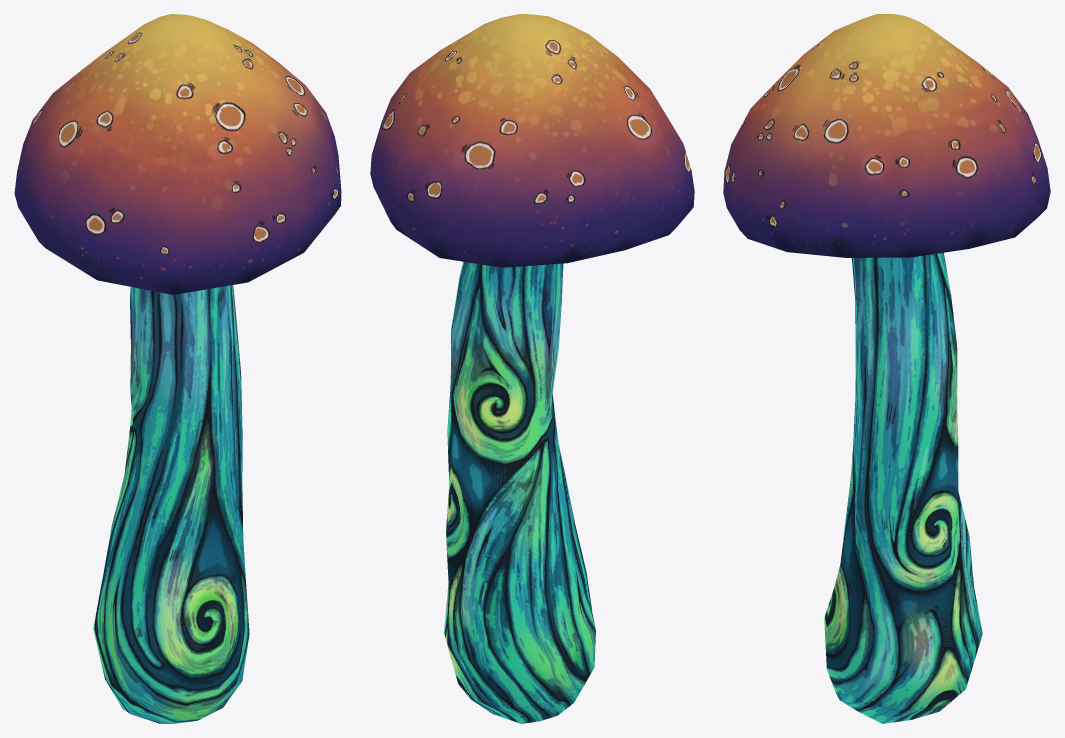
Rendered from stylized_mushroom_1.1.glb.
The picture shows the model from 3 angles, left to right: view 1: azimuth 30°, elevation 25°; view 2: azimuth 150°, elevation 25°; view 3: azimuth 270°, elevation 25°; orthographic projection.
Parts seen in each view (by area): view 1: grzyb6_LP_UVW_Default OBJ.024_0; view 2: grzyb6_LP_UVW_Default OBJ.024_0; view 3: grzyb6_LP_UVW_Default OBJ.024_0.
Boxes of the visible parts, <box> form: grzyb6_LP_UVW_Default OBJ.024_0: <box>14,14,341,723</box>; grzyb6_LP_UVW_Default OBJ.024_0: <box>370,14,694,723</box>; grzyb6_LP_UVW_Default OBJ.024_0: <box>723,14,1050,723</box>.
Bounding box in the file's own units: 0.2045 × 0.4766 × 0.2035.
1 material, 1 textured.
